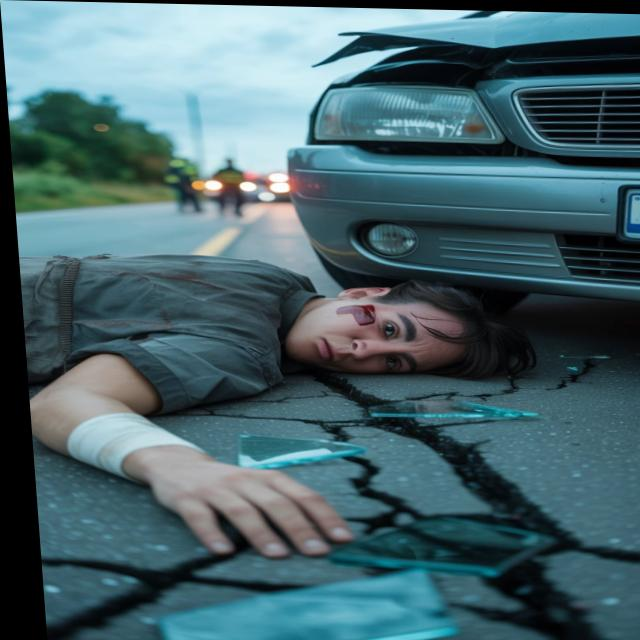injury: (292, 287, 523, 378), (336, 300, 379, 326)
